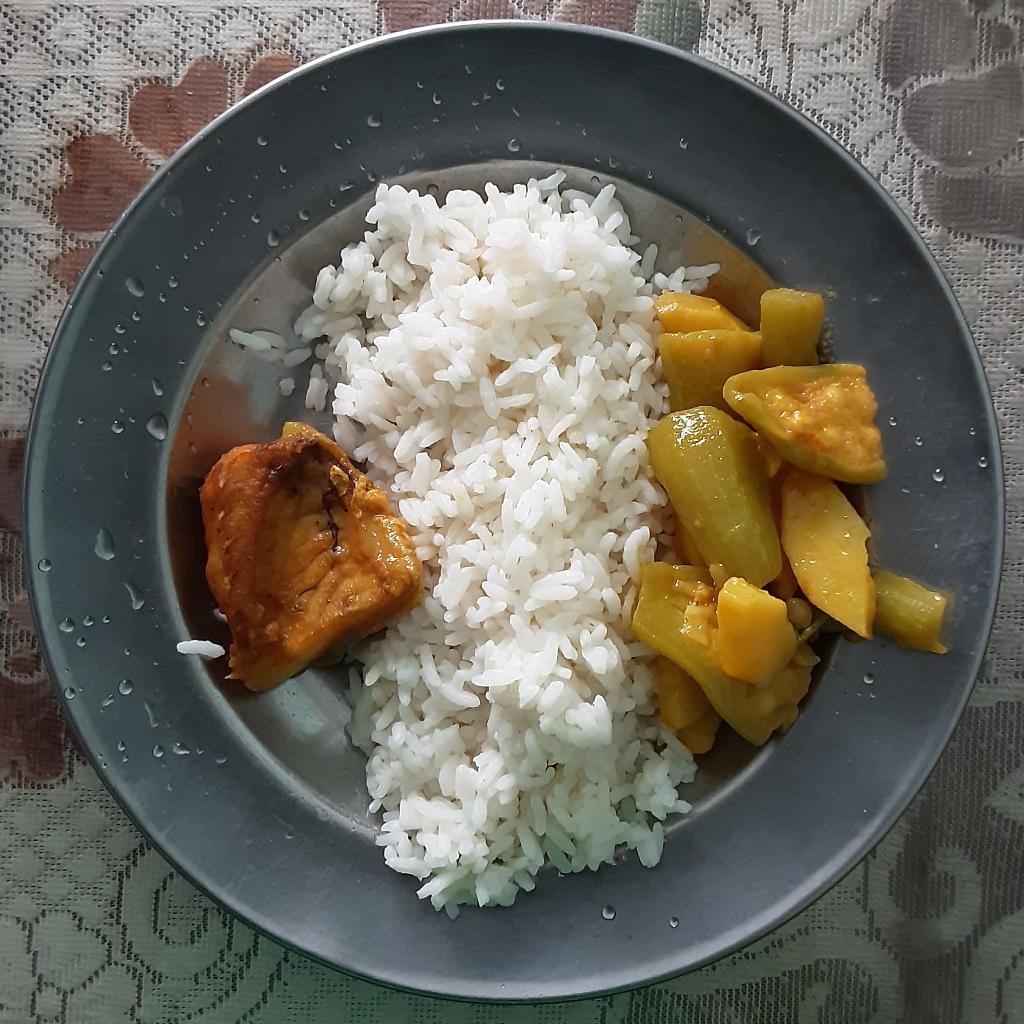fish: (200, 416, 431, 692)
potato: (782, 464, 876, 638), (677, 572, 802, 688), (653, 647, 717, 756), (656, 288, 759, 332)
potol: (636, 288, 895, 746)
rice: (223, 172, 718, 913), (174, 638, 223, 659)
